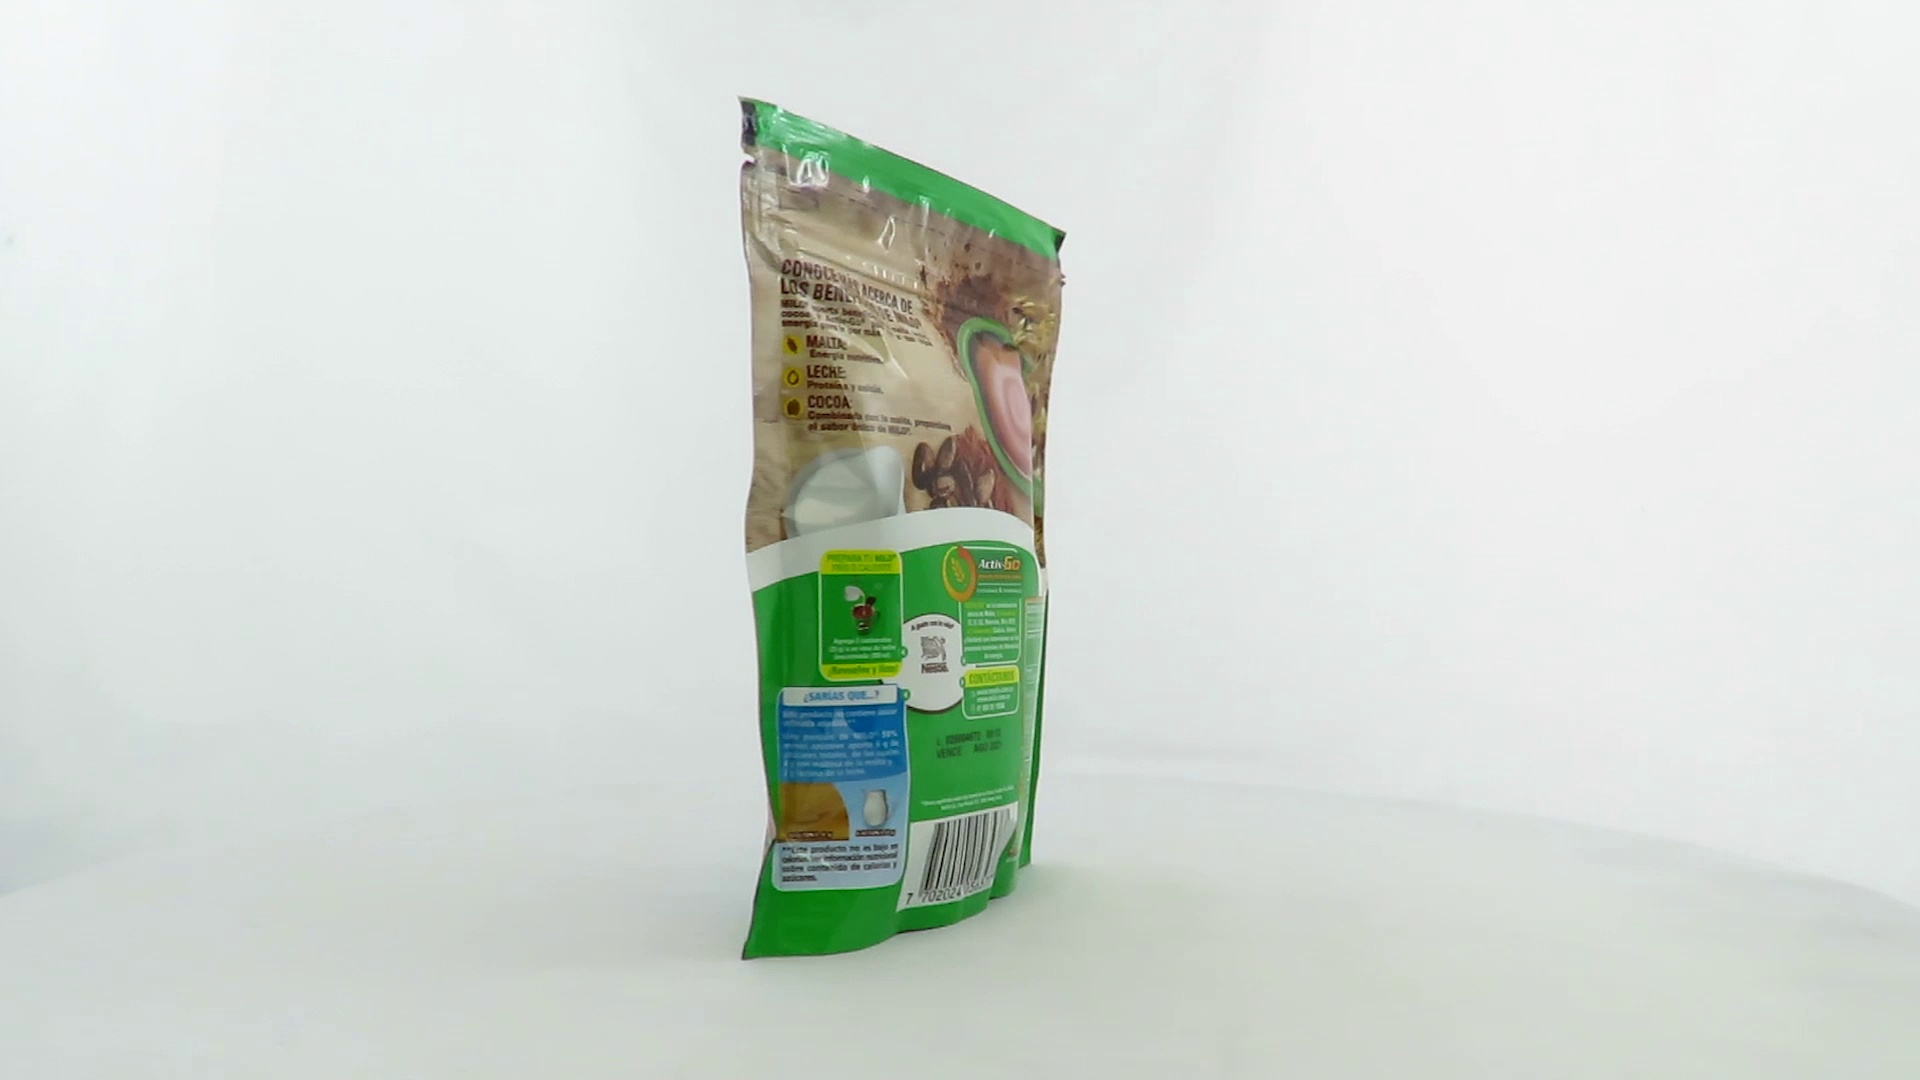COL0170205DYP20000: (732, 90, 1072, 967)
